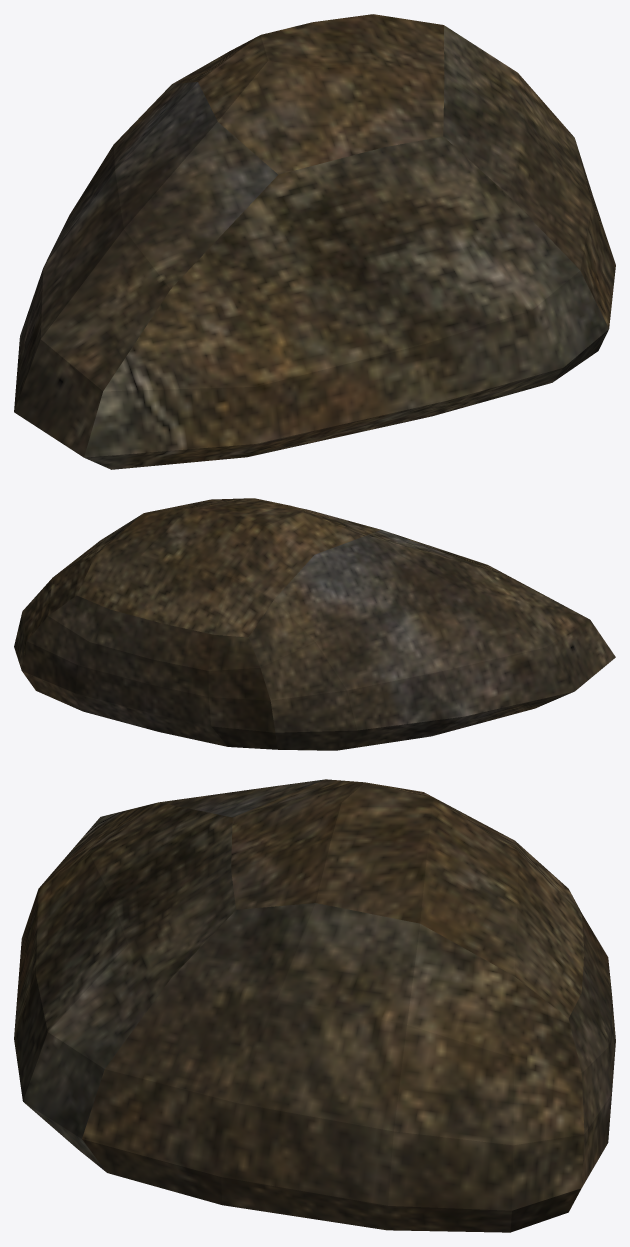
File: stone_4.obj
3 views of the same model, one above another, from view 1: azimuth 30°, elevation 25°; view 2: azimuth 150°, elevation 25°; view 3: azimuth 270°, elevation 25° (orthographic). The views are drawn at different scales.
Parts seen in each view (by area): view 1: stone_4; view 2: stone_4; view 3: stone_4.
Boxes of the visible parts, bbox=[...] form: stone_4: bbox=[14, 14, 615, 469]; stone_4: bbox=[14, 498, 615, 750]; stone_4: bbox=[14, 779, 615, 1232].
Bounding box in the file's own units: 0.4936 × 0.2003 × 0.3559.
